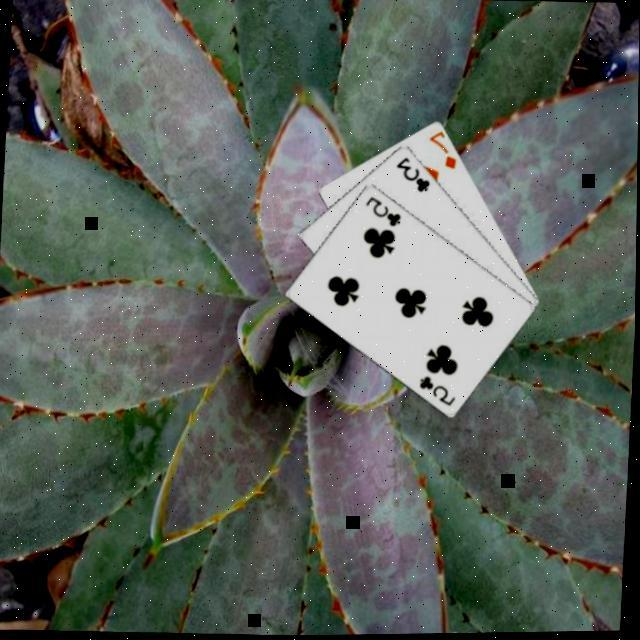3C: (389, 154, 433, 198)
5C: (414, 373, 458, 411), (360, 194, 403, 232)
7D: (423, 130, 459, 174)
